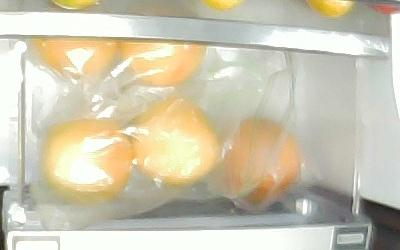grapefruit_vinyl: (132, 97, 218, 186), (44, 118, 131, 202), (222, 117, 301, 203), (119, 44, 208, 86), (32, 40, 118, 75)
